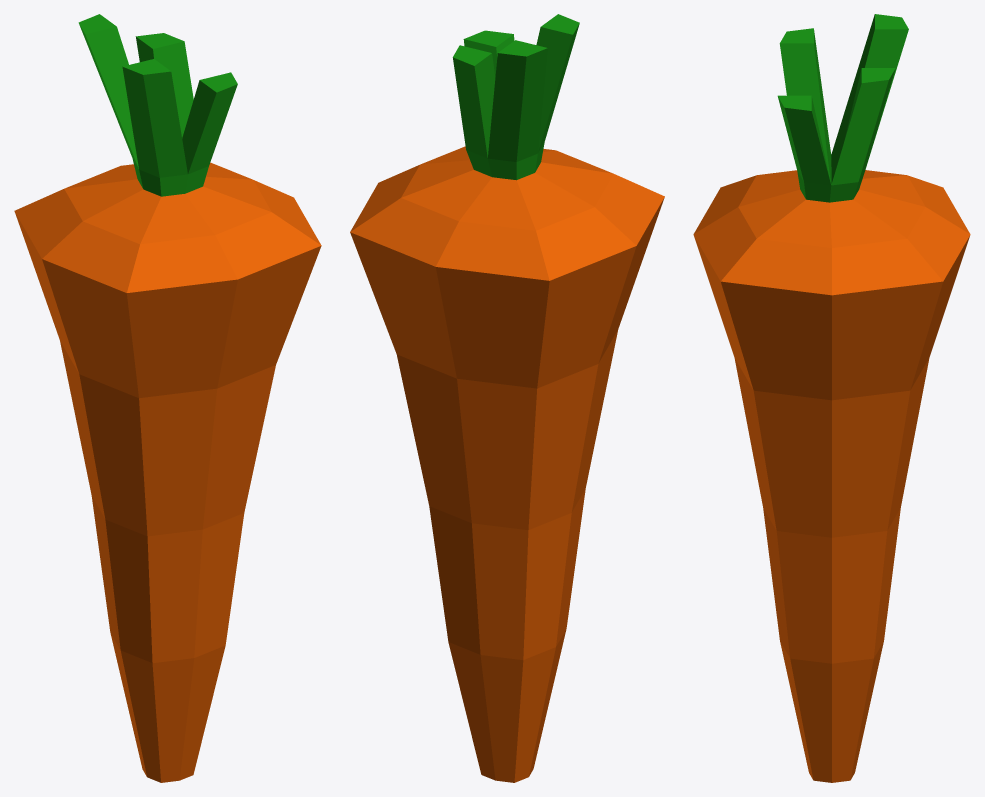
The model's file is CarrotLowPoly.fbx.
3 views of the same model, side by side, from view 1: azimuth 30°, elevation 25°; view 2: azimuth 150°, elevation 25°; view 3: azimuth 270°, elevation 25° (orthographic). The views are drawn at different scales.
Parts seen in each view (by area): view 1: Cube; view 2: Cube; view 3: Cube.
Boxes of the visible parts, <box> form: Cube: <box>14,14,321,782</box>; Cube: <box>350,14,664,782</box>; Cube: <box>693,14,970,782</box>.
Bounding box in the file's own units: 259 × 723 × 249.
